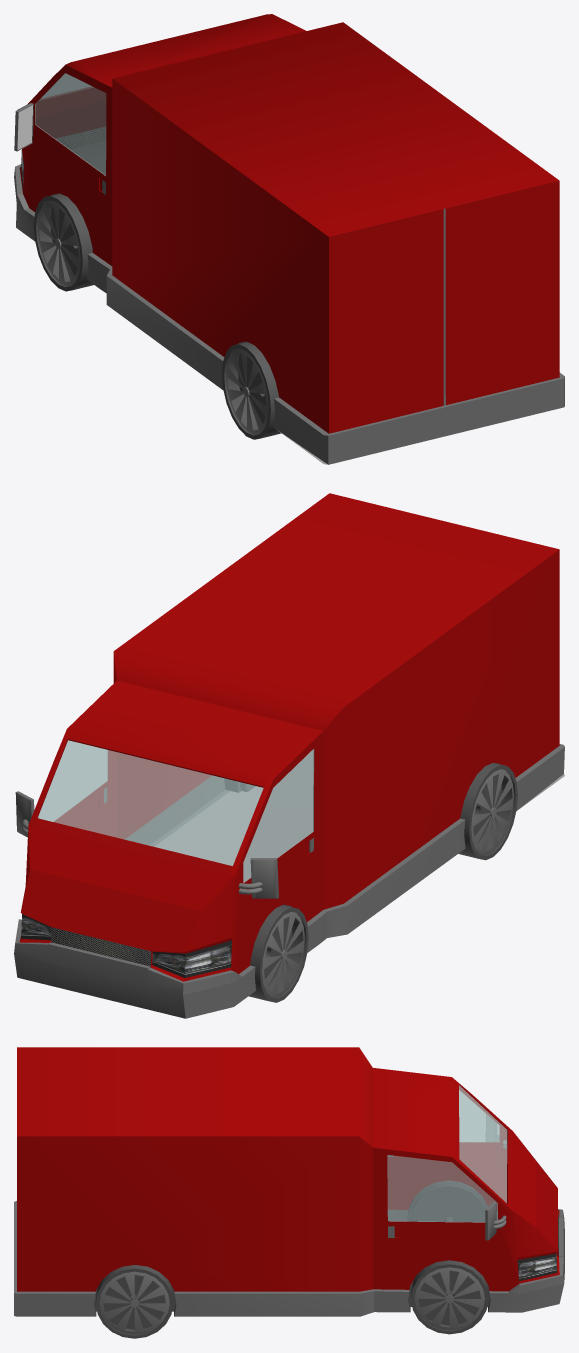
File: BusjeMetGoedGedraaideWielen.fbx
The picture shows the model from 3 angles, top to bottom: view 1: azimuth 30°, elevation 25°; view 2: azimuth 150°, elevation 25°; view 3: azimuth 270°, elevation 25°; orthographic projection. The views are drawn at different scales.
Visible parts, largest first — view 1: polySurface24, voorwiellinks, achterwiellinks; view 2: polySurface24, voorwiellinks, achterwiellinks; view 3: polySurface24, achterwielrechts, voorwielrechts, voorwiellinks.
Boxes of the visible parts, x1,y1,x2,y2 form: polySurface24: [14, 14, 564, 464]; voorwiellinks: [34, 193, 93, 291]; achterwiellinks: [222, 342, 281, 439]; polySurface24: [14, 493, 564, 1018]; voorwiellinks: [249, 905, 308, 1002]; achterwiellinks: [458, 762, 517, 860]; polySurface24: [14, 1047, 564, 1316]; achterwielrechts: [96, 1265, 173, 1338]; voorwielrechts: [411, 1260, 488, 1334]; voorwiellinks: [410, 1184, 485, 1221].
Size of the model in its own units: 10.06 by 9.18 by 23.02.
21 materials, 2 textured.
